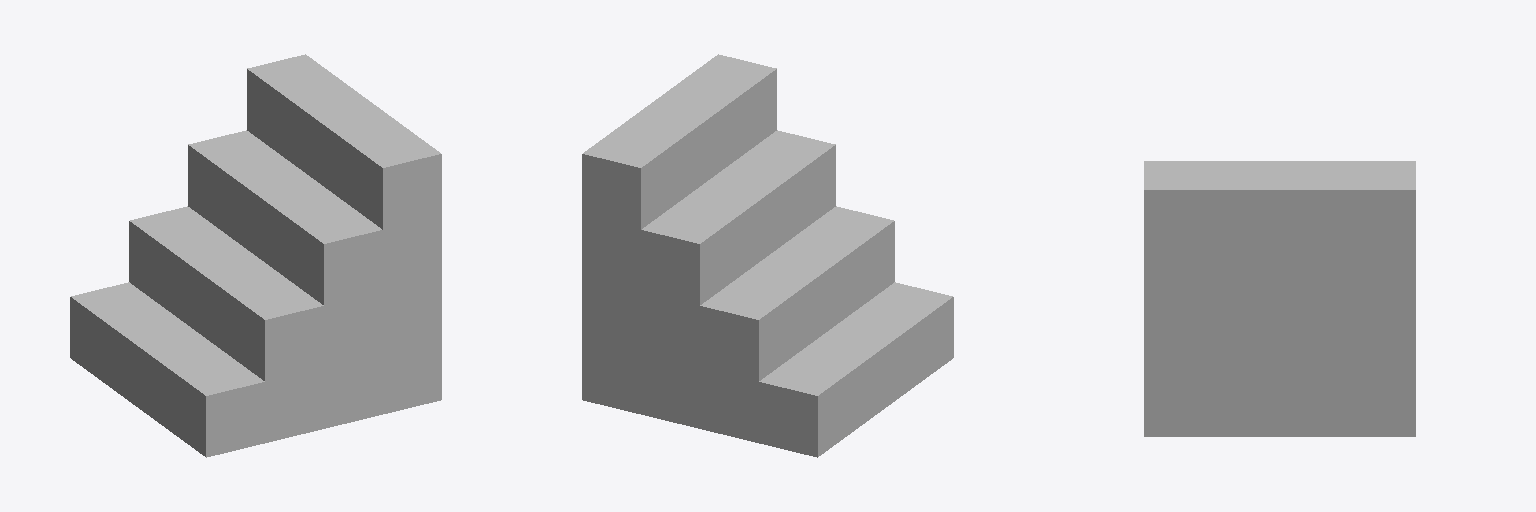
Rendered from StairsX+.obj.
The picture shows the model from 3 angles: view 1: azimuth 30°, elevation 25°; view 2: azimuth 150°, elevation 25°; view 3: azimuth 270°, elevation 25°; orthographic projection.
Visible parts, largest first — view 1: Solid1; view 2: Solid1; view 3: Solid1.
Boxes of the visible parts, <box> form: Solid1: <box>70,54,441,457</box>; Solid1: <box>582,54,953,457</box>; Solid1: <box>1144,161,1415,436</box>.
Size of the model in its own units: 1 by 1 by 1.